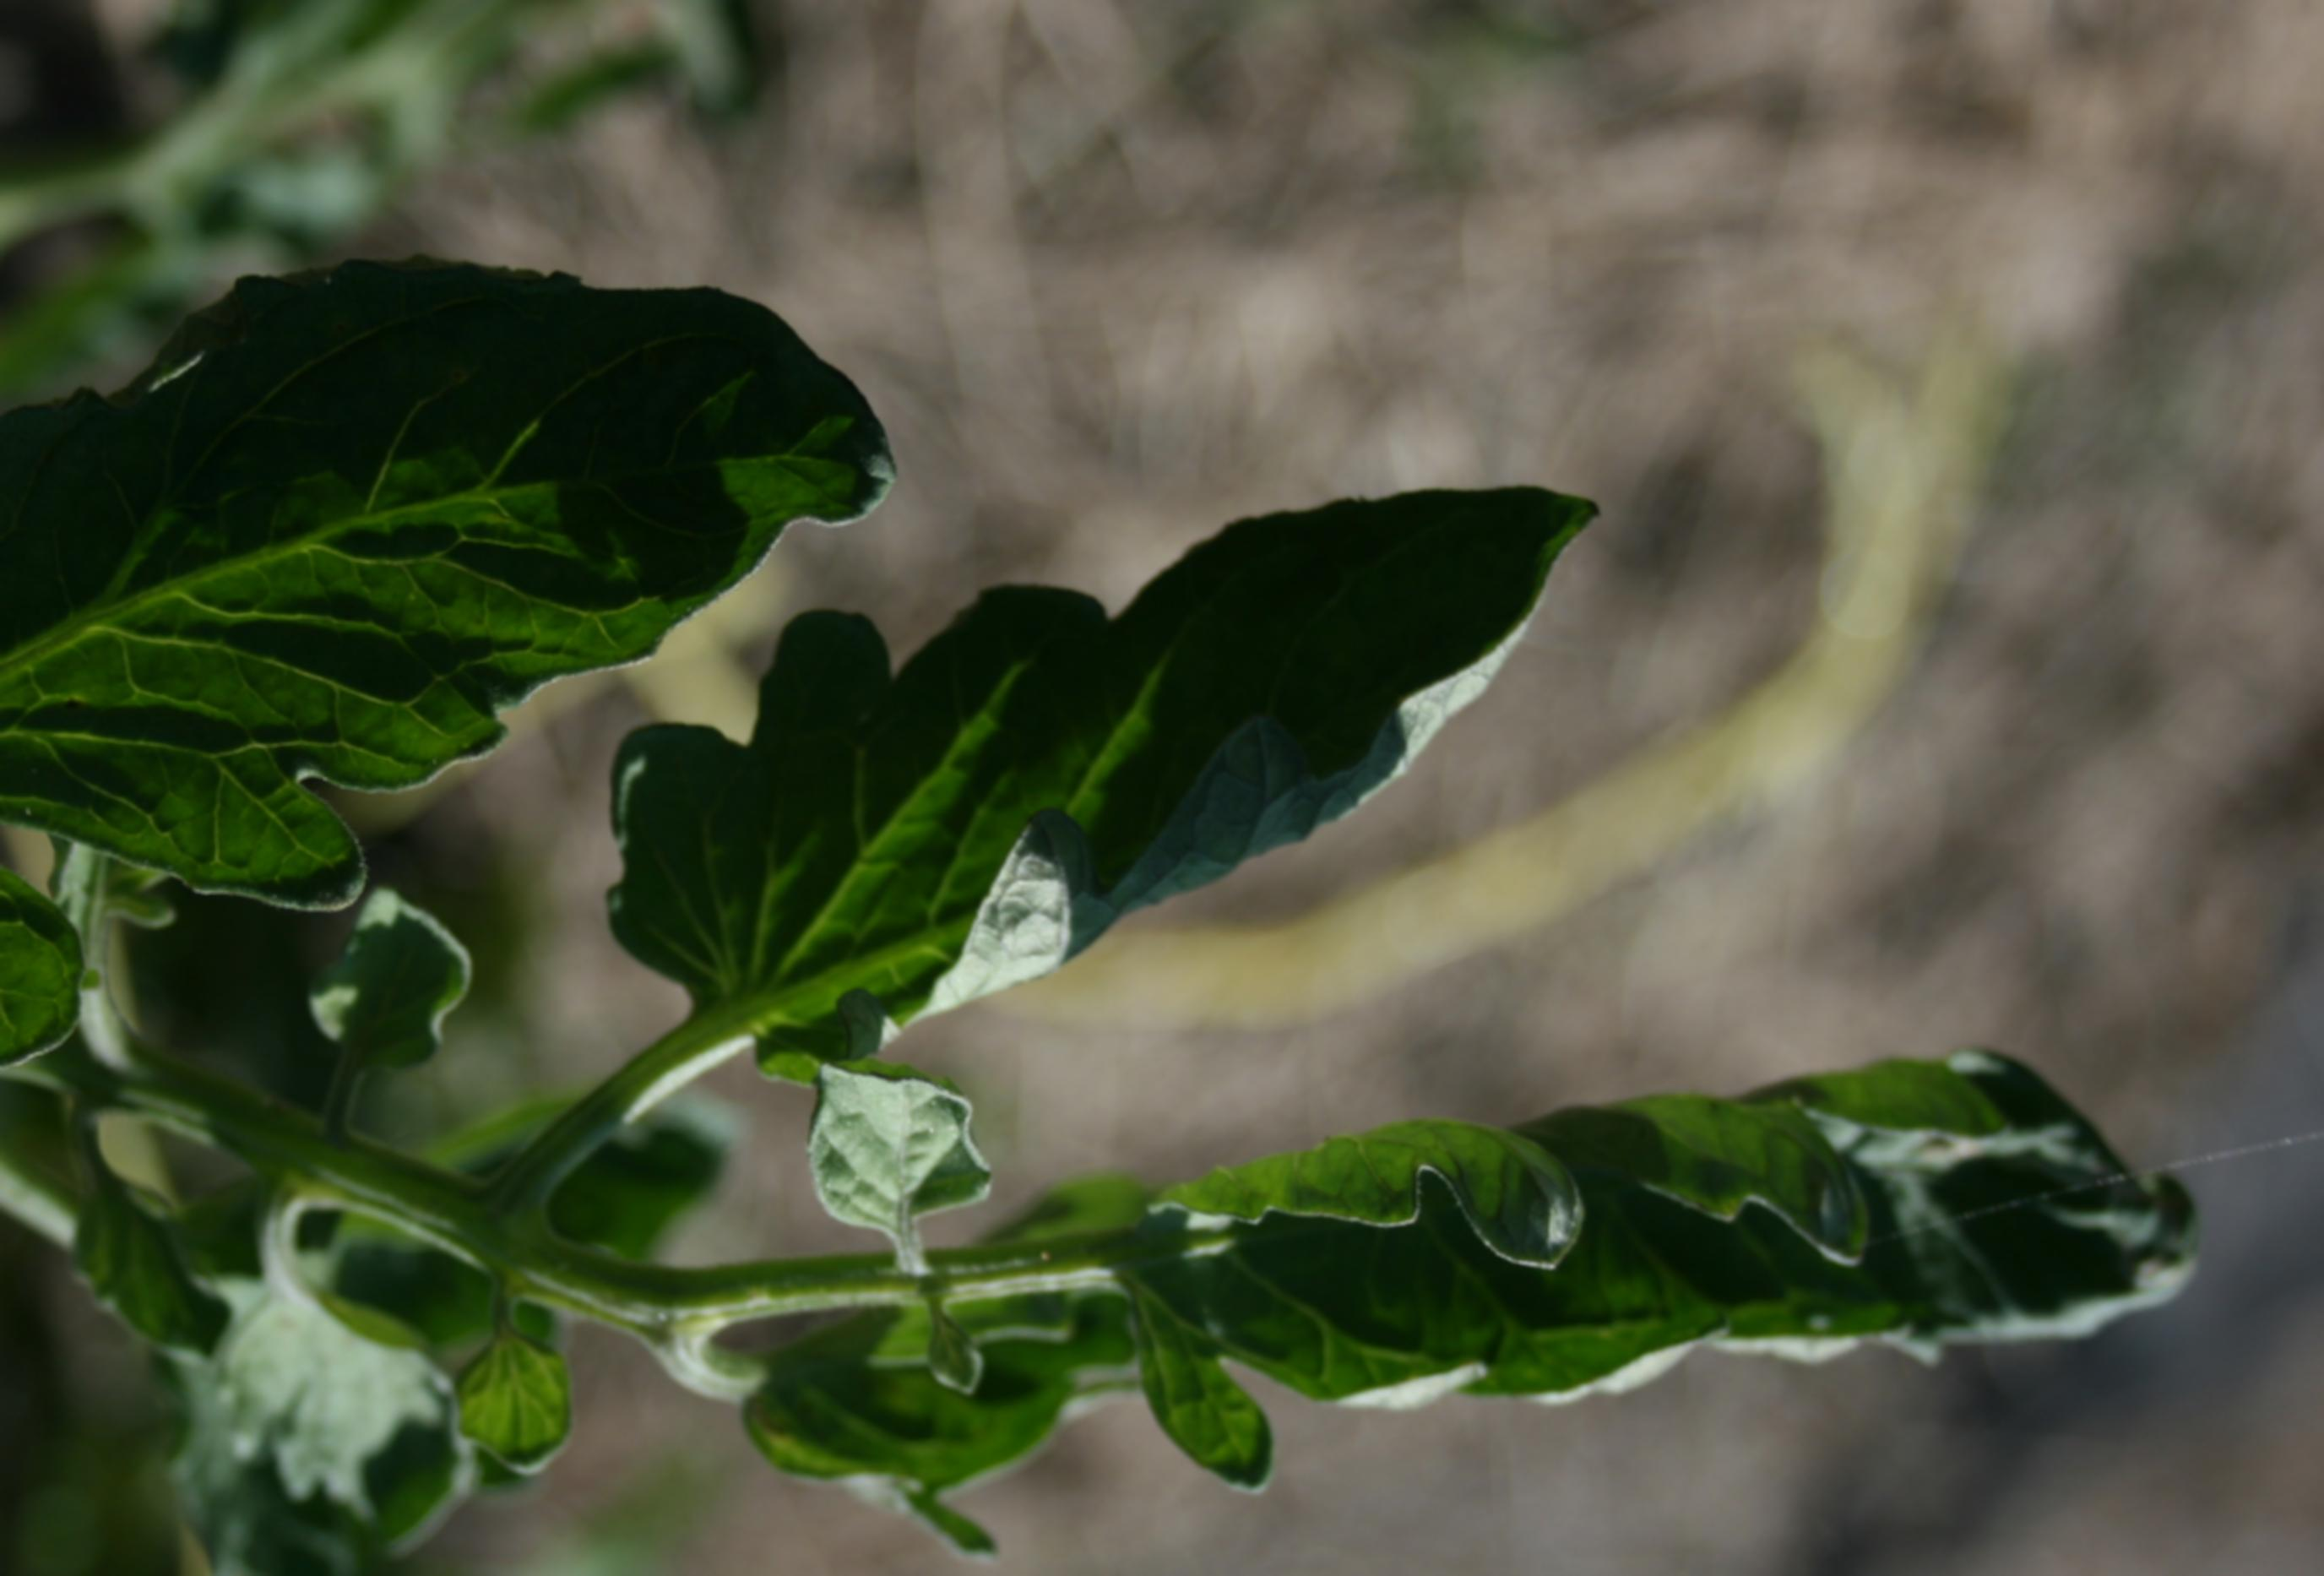Tomato leaf: (962, 1020, 2255, 1523), (0, 227, 893, 948), (631, 468, 1589, 1092)
